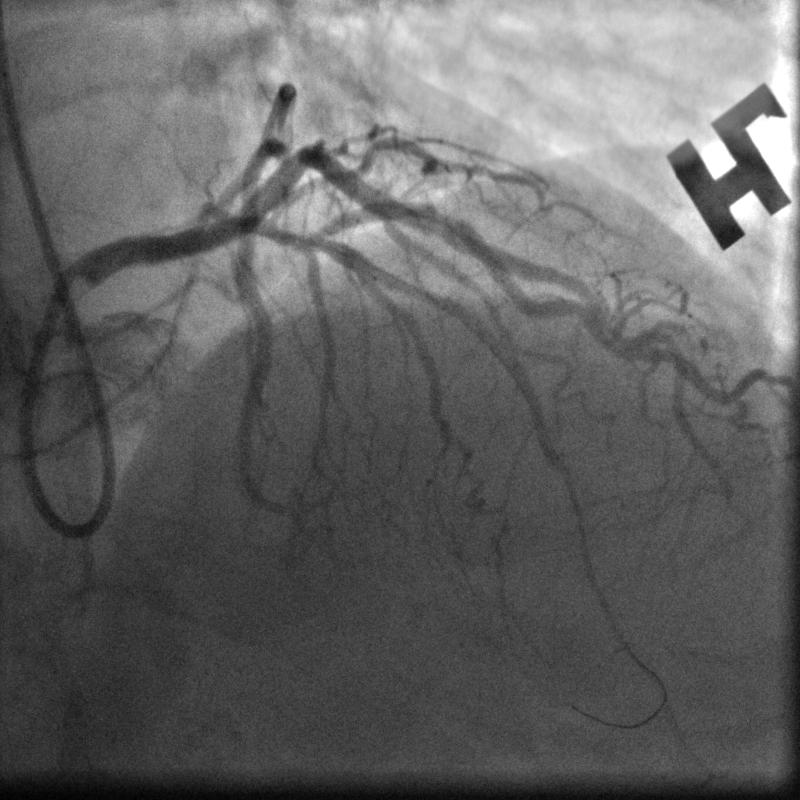Stenosis: (424, 198, 466, 234)
